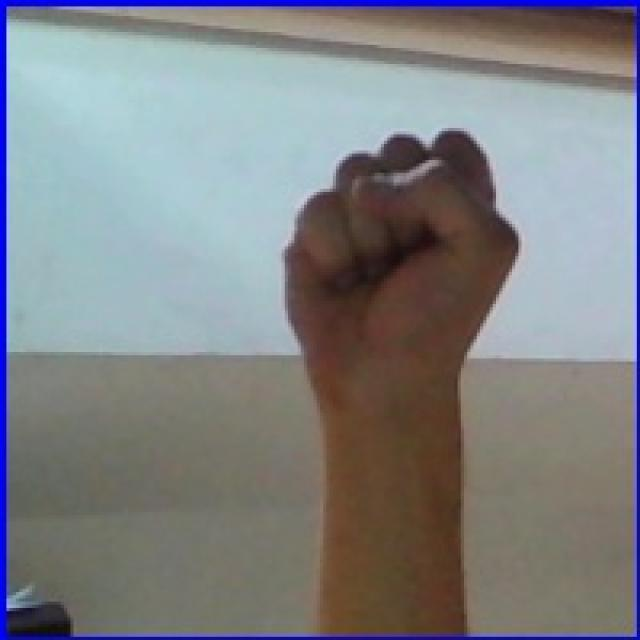Letra-S: (263, 108, 537, 434)
